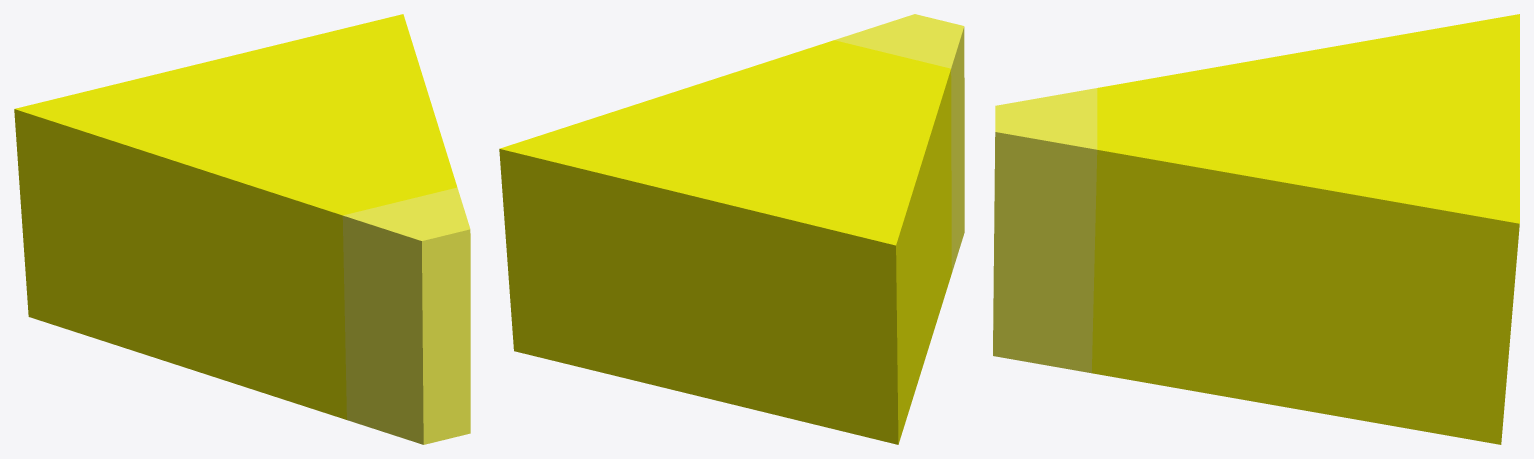
Rendered from pineapple04.obj.
3 renders of one model, left to right at view 1: azimuth 30°, elevation 25°; view 2: azimuth 150°, elevation 25°; view 3: azimuth 270°, elevation 25°, orthographic. The views are drawn at different scales.
Parts seen in each view (by area): view 1: Cylinder; view 2: Cylinder; view 3: Cylinder.
Boxes of the visible parts, <box> form: Cylinder: <box>14,14,470,444</box>; Cylinder: <box>499,14,964,444</box>; Cylinder: <box>993,14,1519,444</box>.
Bounding box in the file's own units: 0.0412 × 0.0206 × 0.0437.
Materials: 1 (1 with a texture image).
